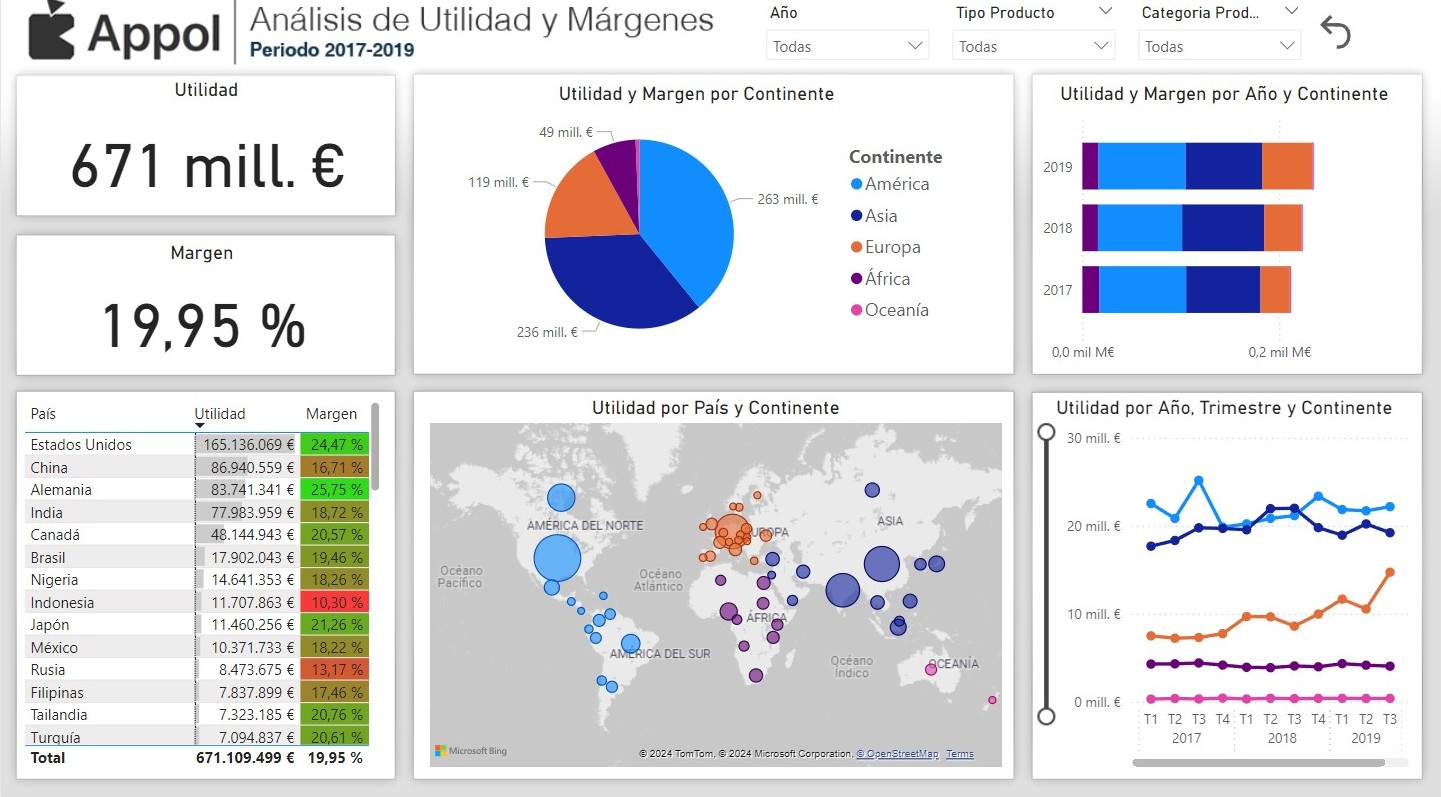

Layout of this report page (visuals, bound fields, positions):
{"tool":"powerbi","page":{"name":"Página 1","canvas":[1280,720],"ordinal":0},"visuals":[{"type":"tableEx","fields":{"Values":["Tabla Datos.País","Tabla Datos.Total Utilidad","Tabla Datos.Margen"]},"box":[15.3,360,326.8,334.9],"z":0},{"type":"card","title":"Utilidad","fields":{"Values":["Tabla Datos.Total Utilidad"]},"box":[15.3,77.2,334.9,122.1],"z":1000},{"type":"card","title":"Margen","fields":{"Values":["Tabla Datos.Margen"]},"box":[15.3,222.6,326.8,116.7],"z":2000},{"type":"barChart","fields":{"Category":["Tabla Datos.Año"],"Y":["Tabla Datos.Total Utilidad"],"Series":["Tabla Datos.Continente"]},"box":[918.4,80.8,338.5,258.6],"z":3000},{"type":"pieChart","fields":{"Category":["Tabla Datos.Continente"],"Y":["Tabla Datos.Total Utilidad"]},"box":[376.2,80.8,484.8,251.4],"z":4000},{"type":"map","fields":{"Size":["Tabla Datos.Total Utilidad"],"Category":["Tabla Datos.País"],"Series":["Tabla Datos.Continente"]},"box":[376.2,360,518.9,334.9],"z":5000},{"type":"lineChart","fields":{"Category":["Tabla Datos.Año","Tabla Datos.Trimestre"],"Y":["Tabla Datos.Total Utilidad"],"Series":["Tabla Datos.Continente"]},"box":[918.4,360,338.5,334.9],"z":7000},{"type":"slicer","fields":{"Values":["Tabla Datos.Tipo Producto"]},"box":[835.8,6.3,165.2,60.1],"z":7001},{"type":"slicer","fields":{"Values":["Tabla Datos.Año"]},"box":[670.6,6.3,165.2,60.1],"z":7002},{"type":"slicer","fields":{"Values":["Tabla Productos.Categoria Producto"]},"box":[1001,6.3,165.2,60.1],"z":7003},{"type":"actionButton","box":[1166.2,16.2,99.7,40.4],"z":7004}]}

Visuals, with their boxes in screenshot pixels (x1, y1, x2, y2), scaled from the page's 1280x720 canvas onto the 1441x797 screenshot:
tableEx - Tabla Datos.País x Tabla Datos.Total Utilidad: 17 398 385 769
"Utilidad" card: 17 85 394 221
"Margen" card: 17 246 385 376
barChart - Tabla Datos.Año x Tabla Datos.Total Utilidad: 1034 89 1415 376
pieChart - Tabla Datos.Continente x Tabla Datos.Total Utilidad: 424 89 969 368
map - Tabla Datos.Total Utilidad x Tabla Datos.País: 424 398 1008 769
lineChart - Tabla Datos.Año x Tabla Datos.Trimestre: 1034 398 1415 769
slicer - Tabla Datos.Tipo Producto: 941 7 1127 74
slicer - Tabla Datos.Año: 755 7 941 74
slicer - Tabla Productos.Categoria Producto: 1127 7 1313 74
actionButton: 1313 18 1425 63
